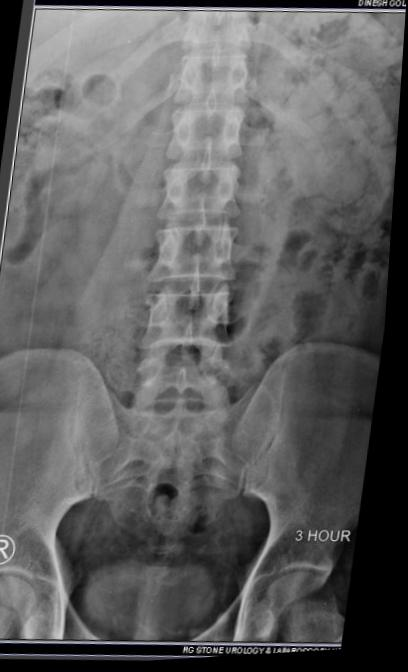bladder: (68, 555, 228, 660)
left kidney: (240, 29, 404, 249)
vertebrae: (154, 95, 244, 167)
